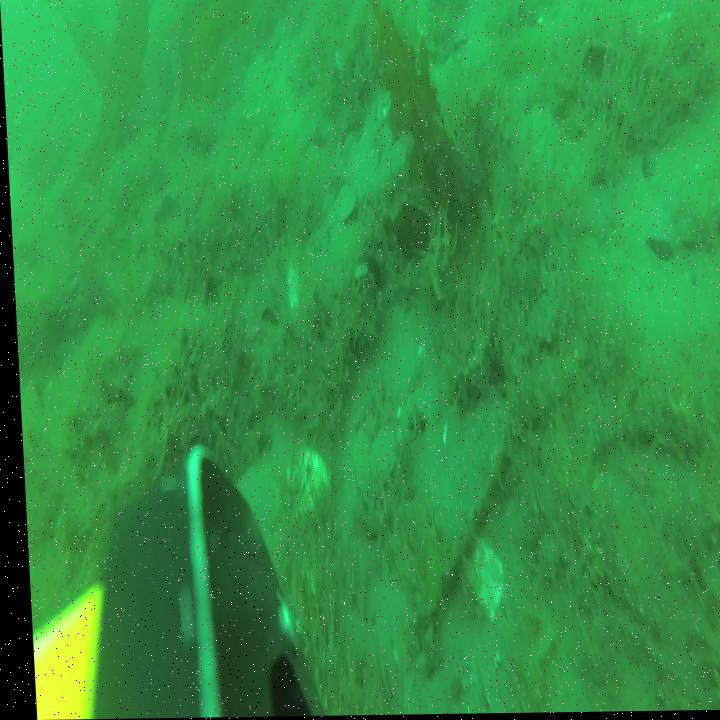scallop: (451, 533, 498, 619), (345, 415, 393, 492), (283, 451, 321, 511), (281, 261, 304, 319)
